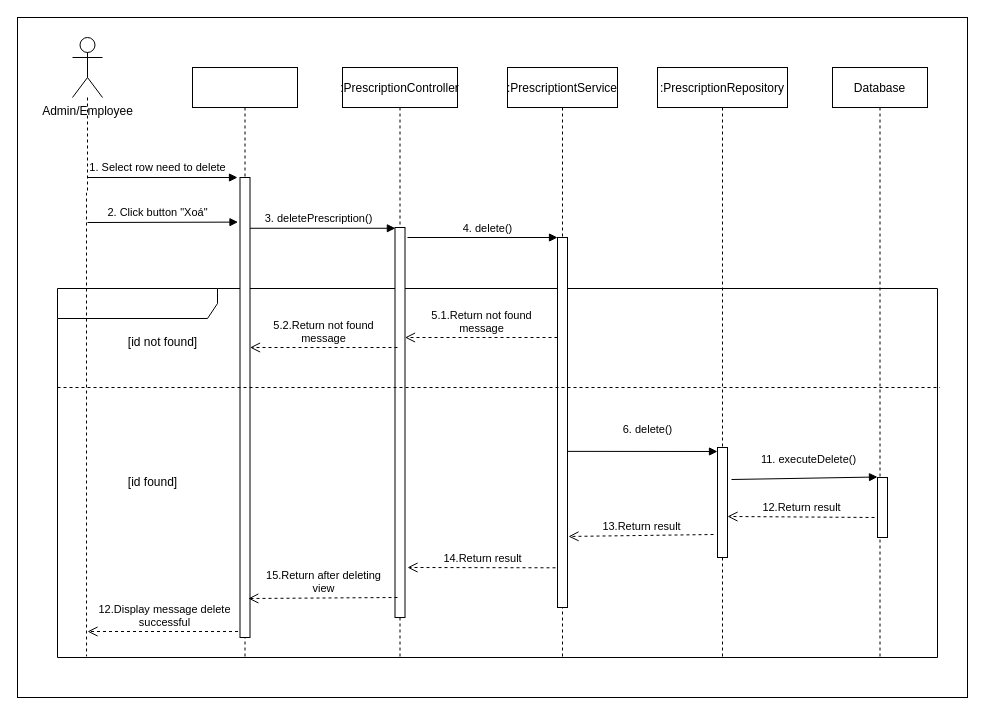
This 985x715 diagram has some shape labels left out. Here are the shapes that lost their labels. From the top down, the box of each, then its label:
(192, 66, 298, 658): View
(56, 288, 938, 658): alt delete Prescription
